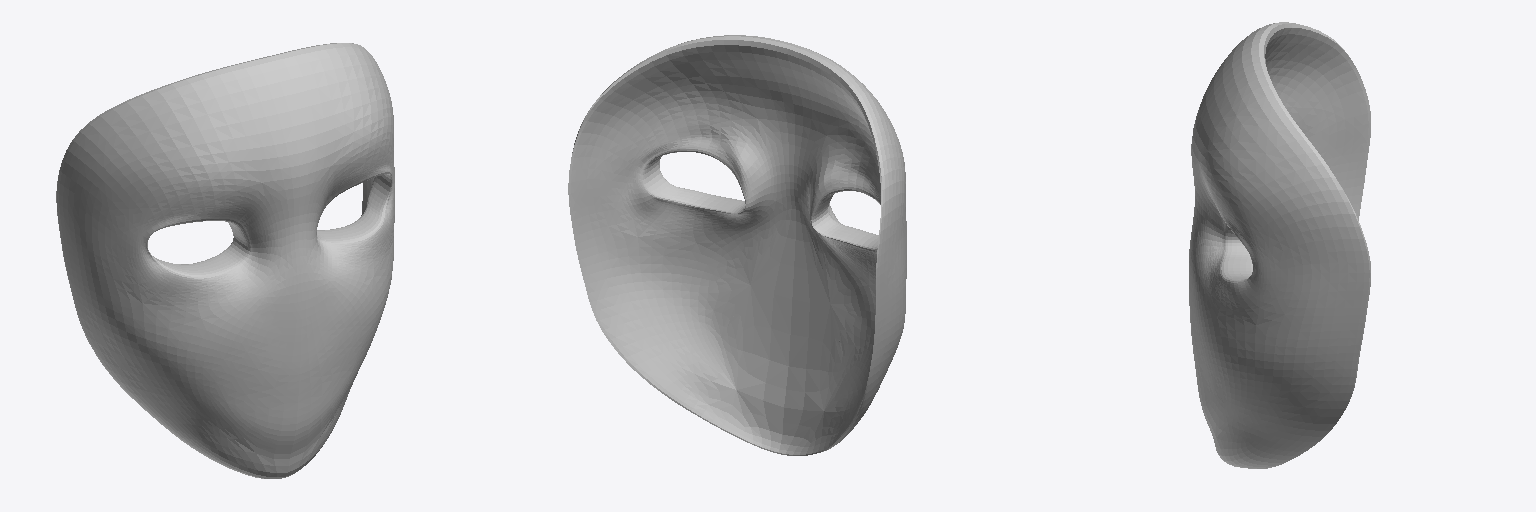
The model's file is mask_base_v2.0.obj.
The picture shows the model from 3 angles: view 1: azimuth 30°, elevation 25°; view 2: azimuth 150°, elevation 25°; view 3: azimuth 270°, elevation 25°; orthographic projection.
Visible parts, largest first — view 1: body_Circle.001; view 2: body_Circle.001; view 3: body_Circle.001.
Part boxes in pixels (left/top/right/bottom): body_Circle.001: left=56, top=43, right=394, bottom=478; body_Circle.001: left=568, top=35, right=906, bottom=455; body_Circle.001: left=1189, top=22, right=1370, bottom=468.
Bounding box in the file's own units: 165 × 210 × 84.28.